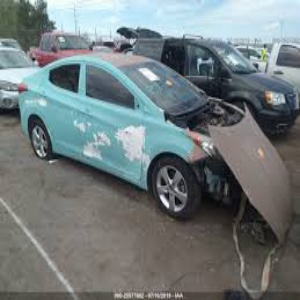door_scratch: (52, 97, 146, 169)
